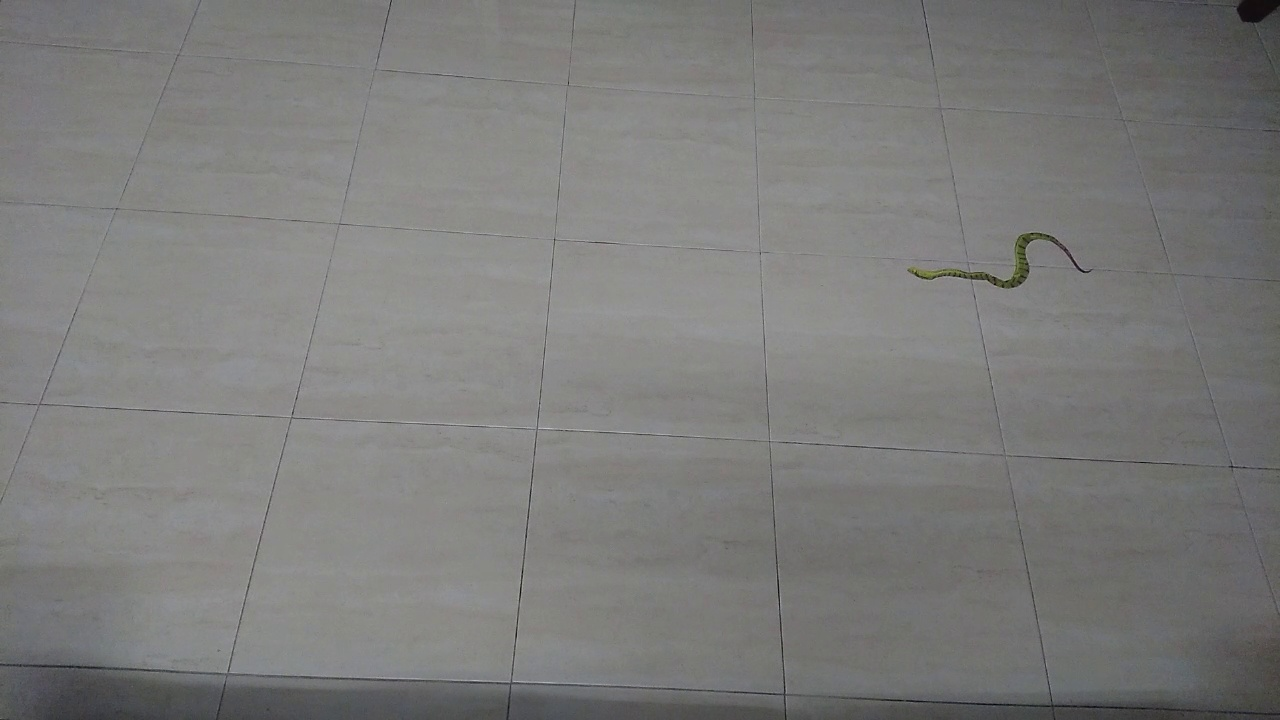snake: (891, 215, 1103, 302)
